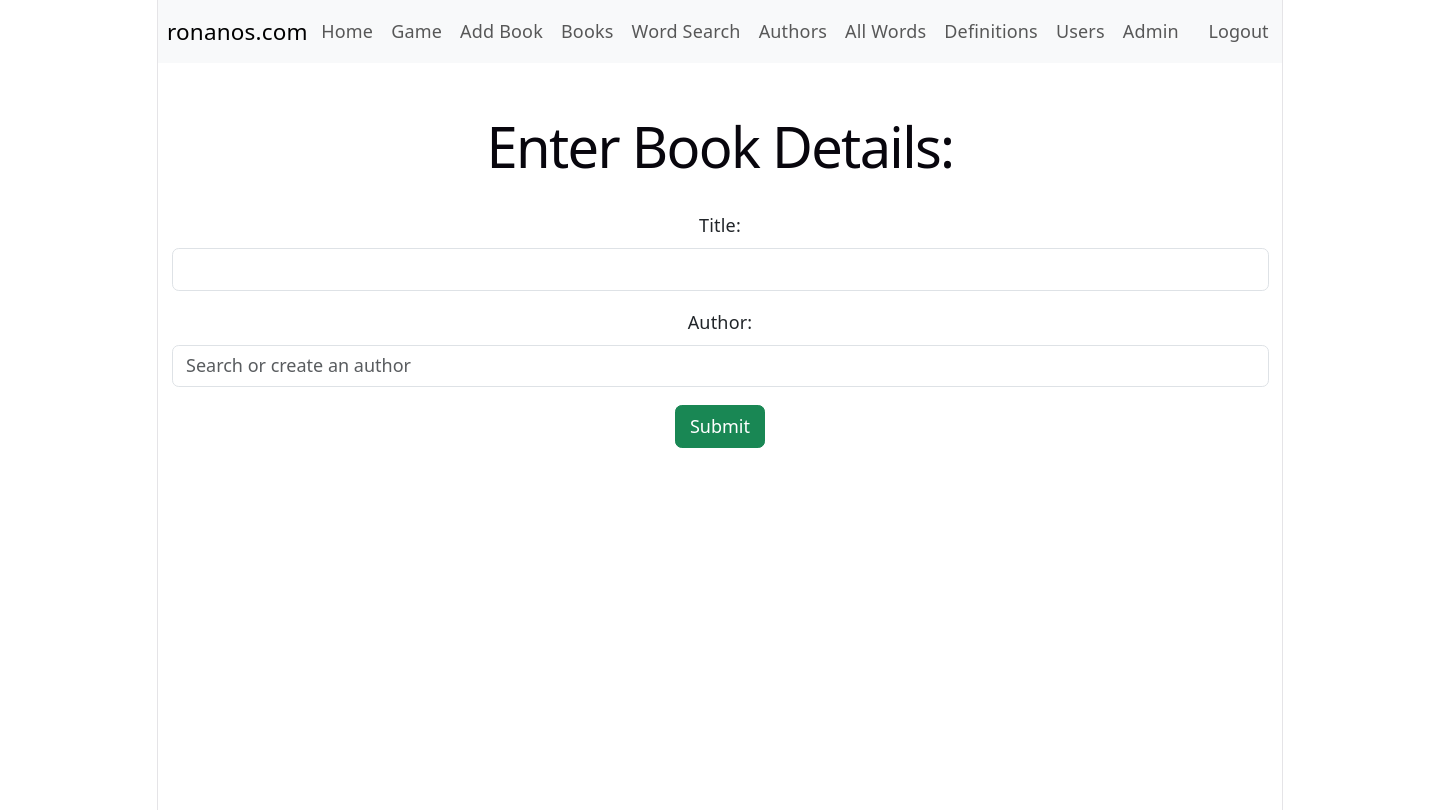
AddBook › shows 409 error when book title already exists
Expected: the field labelled "Title:" is shown, [172,248,1268,291]
Type "Mary" into the field labelled "Author:". click: (720, 366)
box: [172,345,1268,387]
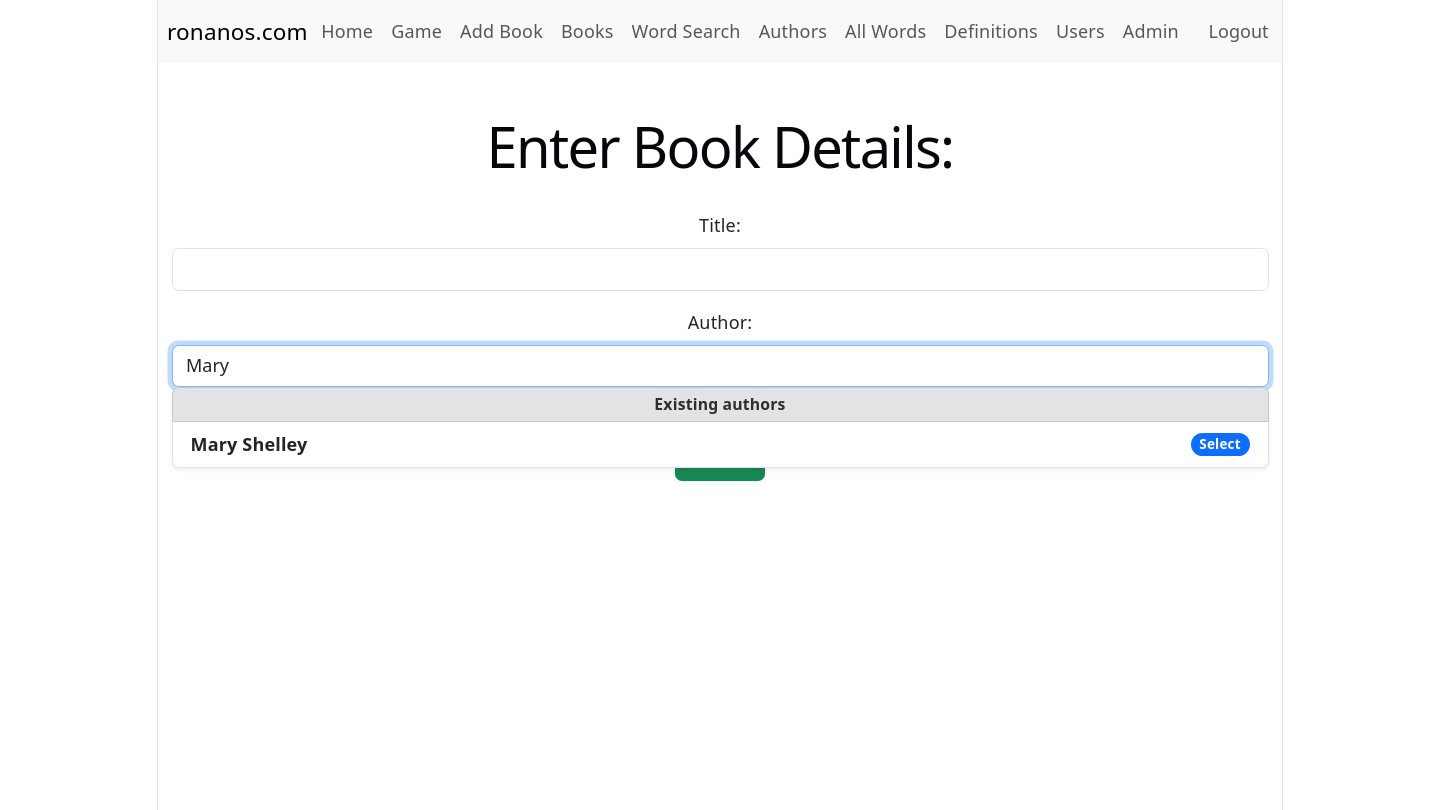
Click the list item "Mary Shelley". click: click(720, 445)
box: [172,422,1268,468]
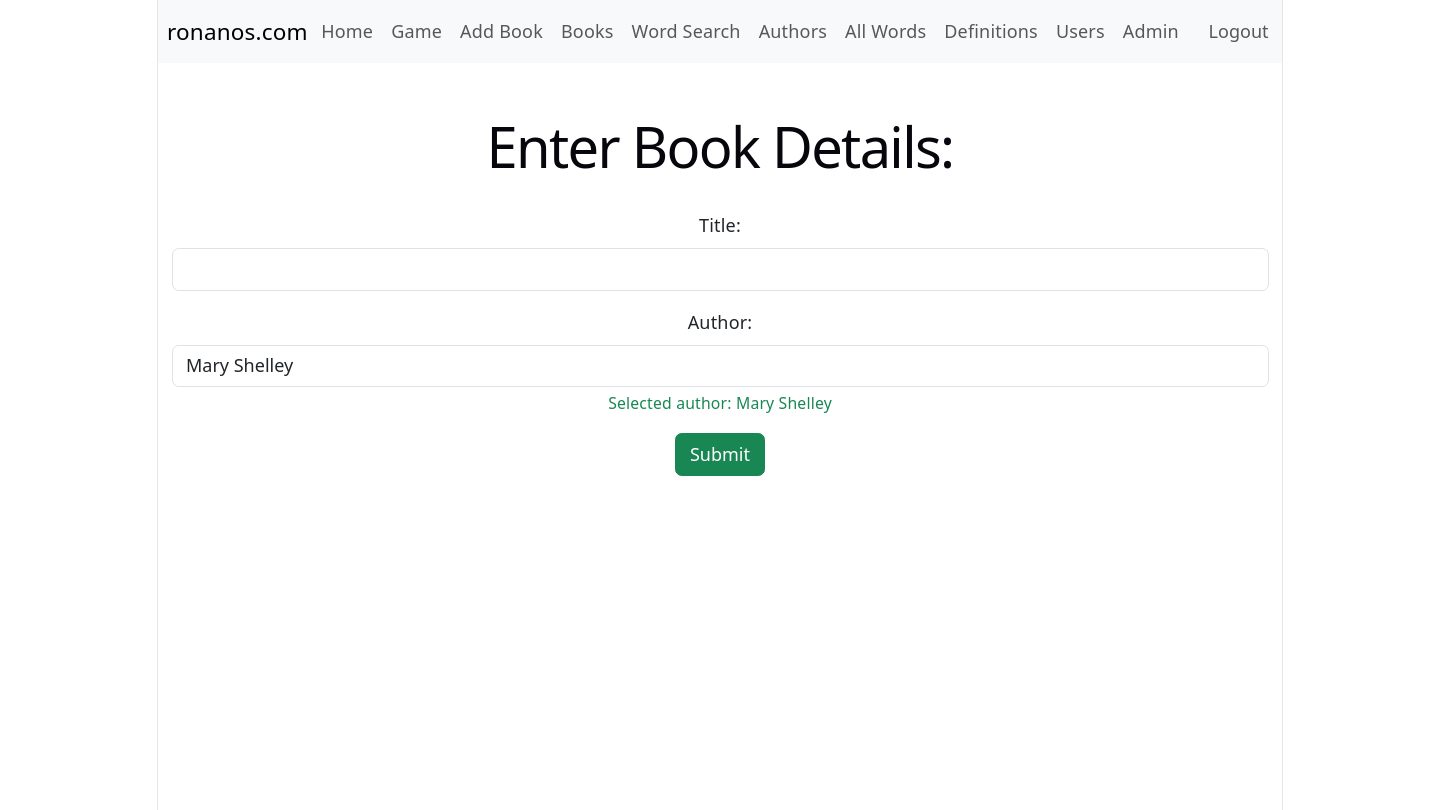
Type "Frankenstein" into the field labelled "Title:". click: (720, 269)
box: [172,248,1268,291]
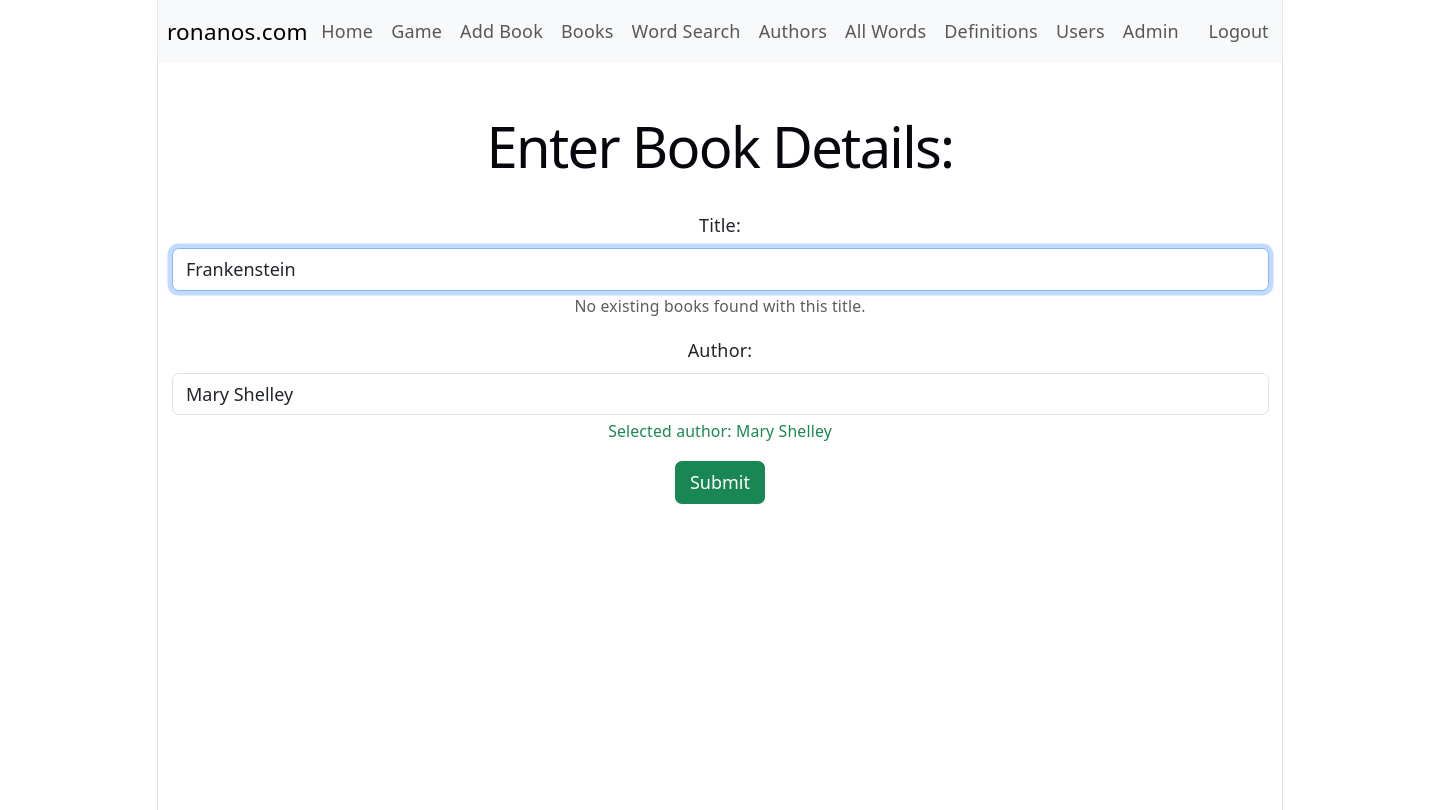
Click the button "Submit". click: click(720, 483)
box: [676,461,765,504]
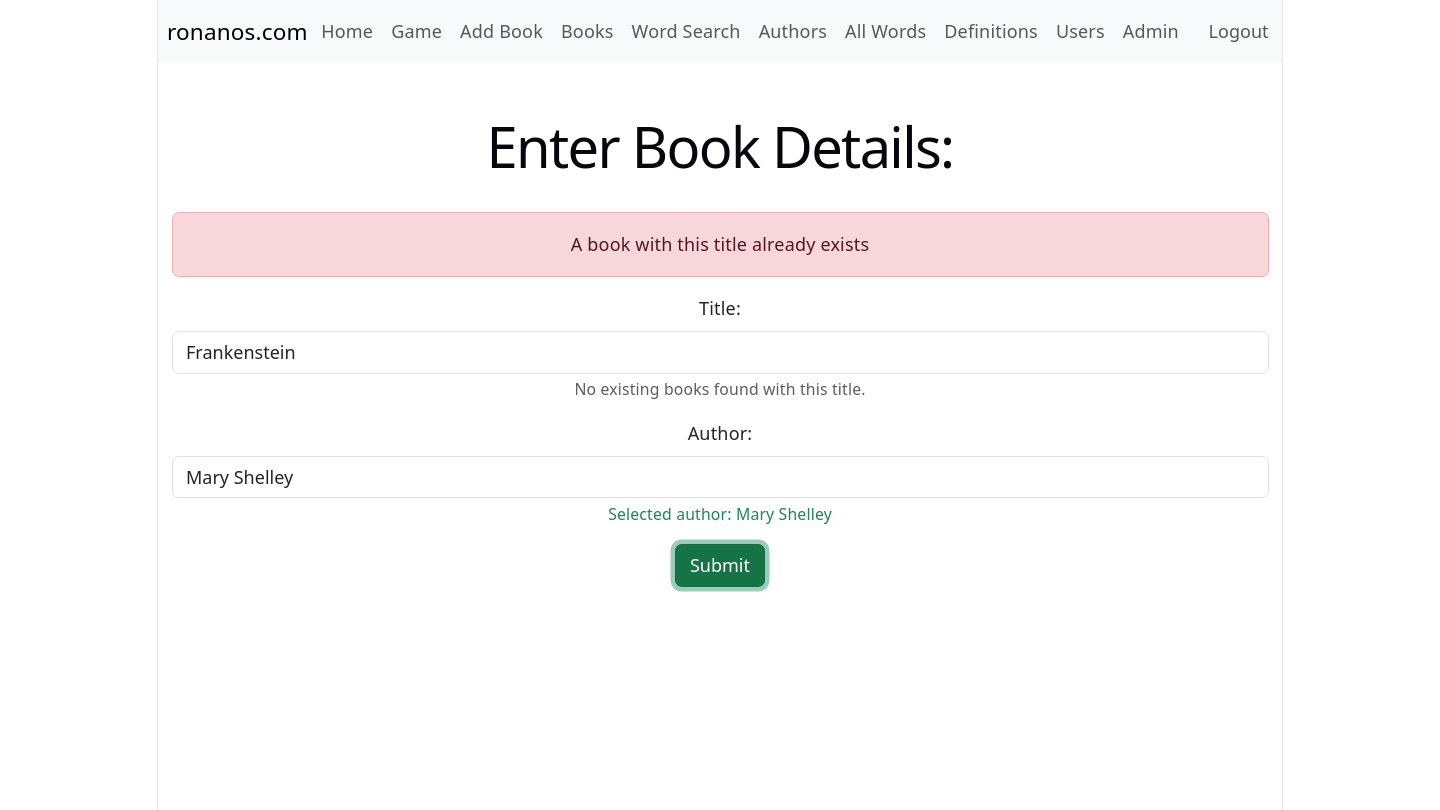
Expected: the text "A book with this title already exists" is shown, [172,212,1268,277]
